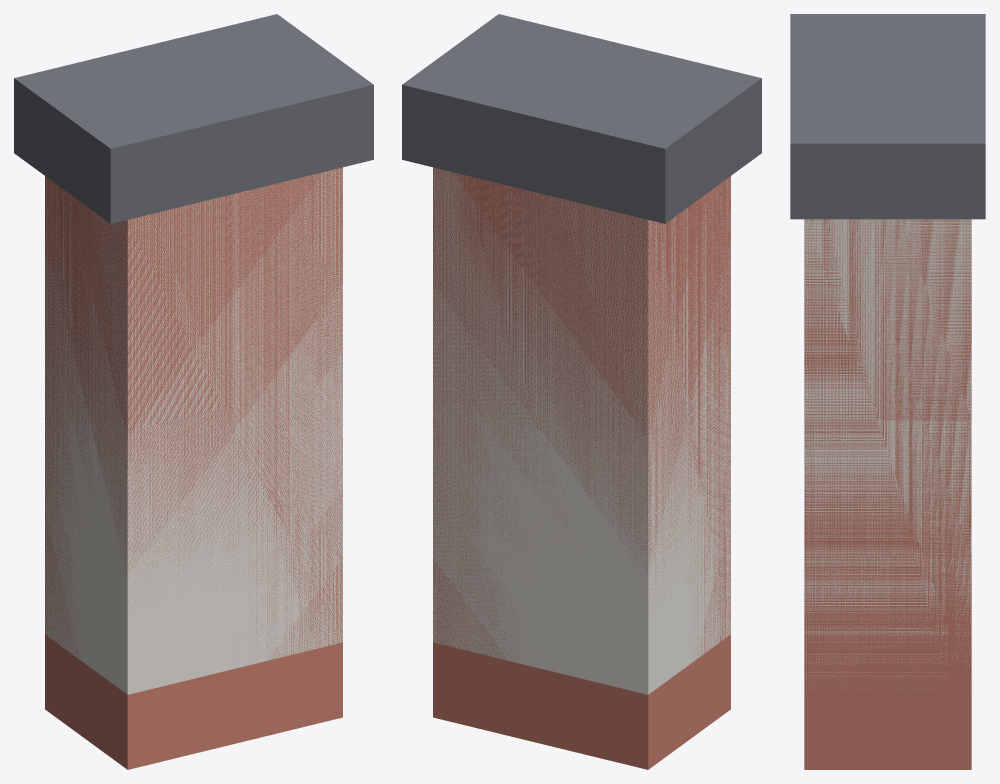
File: MOD_LETTERBOX_STANDARD_001_LOD_GAMEPLAY.glb
The picture shows the model from 3 angles, left to right: view 1: azimuth 30°, elevation 25°; view 2: azimuth 150°, elevation 25°; view 3: azimuth 270°, elevation 25°; orthographic projection.
Visible parts, largest first — view 1: MOD_LETTERBOX_STANDARD_001_post_mounted_letterbox_BODY.001, MOD_LETTERBOX_STANDARD_001_brick_pillar_letterbox_BODY.001, MOD_LETTERBOX_STANDARD_001_brick_pillar_letterbox_CAP.001; view 2: MOD_LETTERBOX_STANDARD_001_post_mounted_letterbox_BODY.001, MOD_LETTERBOX_STANDARD_001_brick_pillar_letterbox_BODY.001, MOD_LETTERBOX_STANDARD_001_brick_pillar_letterbox_CAP.001; view 3: MOD_LETTERBOX_STANDARD_001_brick_pillar_letterbox_BODY.001, MOD_LETTERBOX_STANDARD_001_post_mounted_letterbox_BODY.001, MOD_LETTERBOX_STANDARD_001_brick_pillar_letterbox_CAP.001.
Boxes of the visible parts, x1=… form: MOD_LETTERBOX_STANDARD_001_post_mounted_letterbox_BODY.001: x1=45, y1=168, x2=342, y2=694; MOD_LETTERBOX_STANDARD_001_brick_pillar_letterbox_BODY.001: x1=45, y1=167, x2=342, y2=769; MOD_LETTERBOX_STANDARD_001_brick_pillar_letterbox_CAP.001: x1=14, y1=14, x2=373, y2=223; MOD_LETTERBOX_STANDARD_001_post_mounted_letterbox_BODY.001: x1=433, y1=167, x2=730, y2=694; MOD_LETTERBOX_STANDARD_001_brick_pillar_letterbox_BODY.001: x1=433, y1=167, x2=730, y2=769; MOD_LETTERBOX_STANDARD_001_brick_pillar_letterbox_CAP.001: x1=402, y1=14, x2=761, y2=223; MOD_LETTERBOX_STANDARD_001_brick_pillar_letterbox_BODY.001: x1=804, y1=219, x2=971, y2=769; MOD_LETTERBOX_STANDARD_001_post_mounted_letterbox_BODY.001: x1=804, y1=219, x2=971, y2=689; MOD_LETTERBOX_STANDARD_001_brick_pillar_letterbox_CAP.001: x1=790, y1=14, x2=985, y2=219.
Size of the model in its own units: 0.44 by 1.01 by 0.28.
